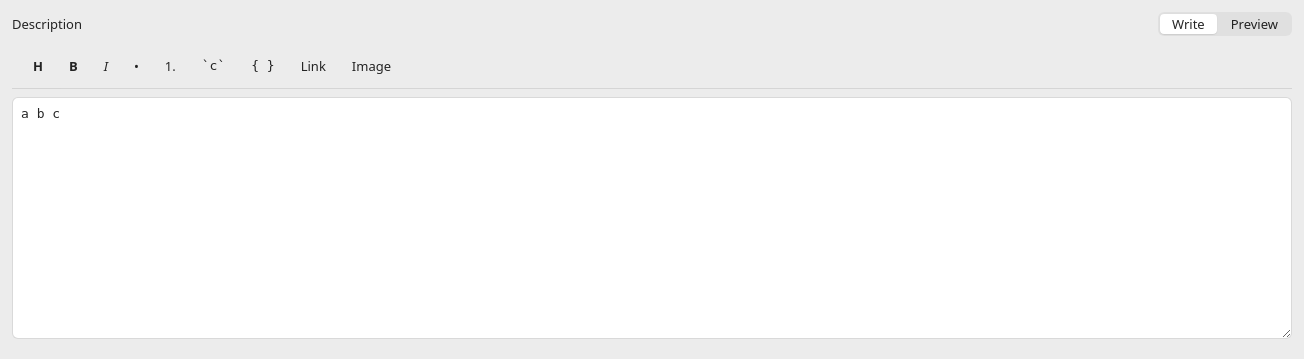
Test: DescriptionEditor toolbar (FR2) › Italic applies its command to the selection
Click the button named "Italic" at [106, 66], box [95, 54, 117, 78]
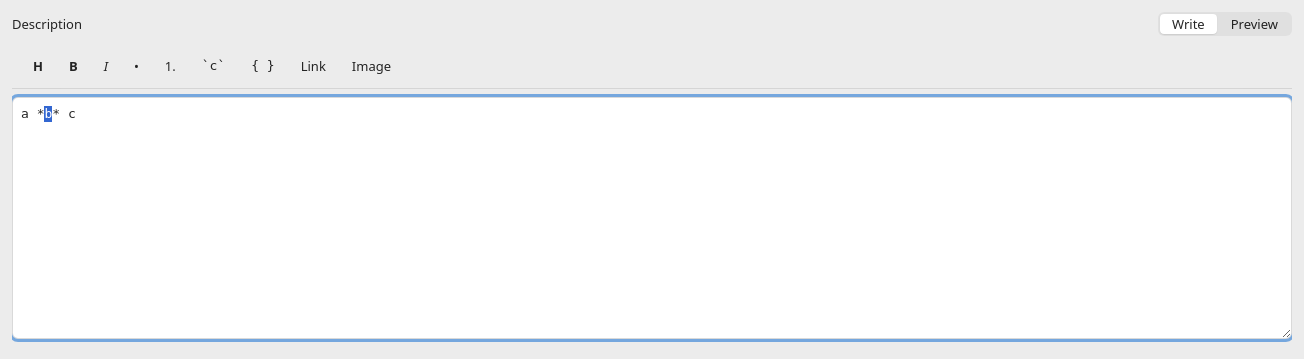
Check: the text box labelled "Description" holds "a *b* c"
